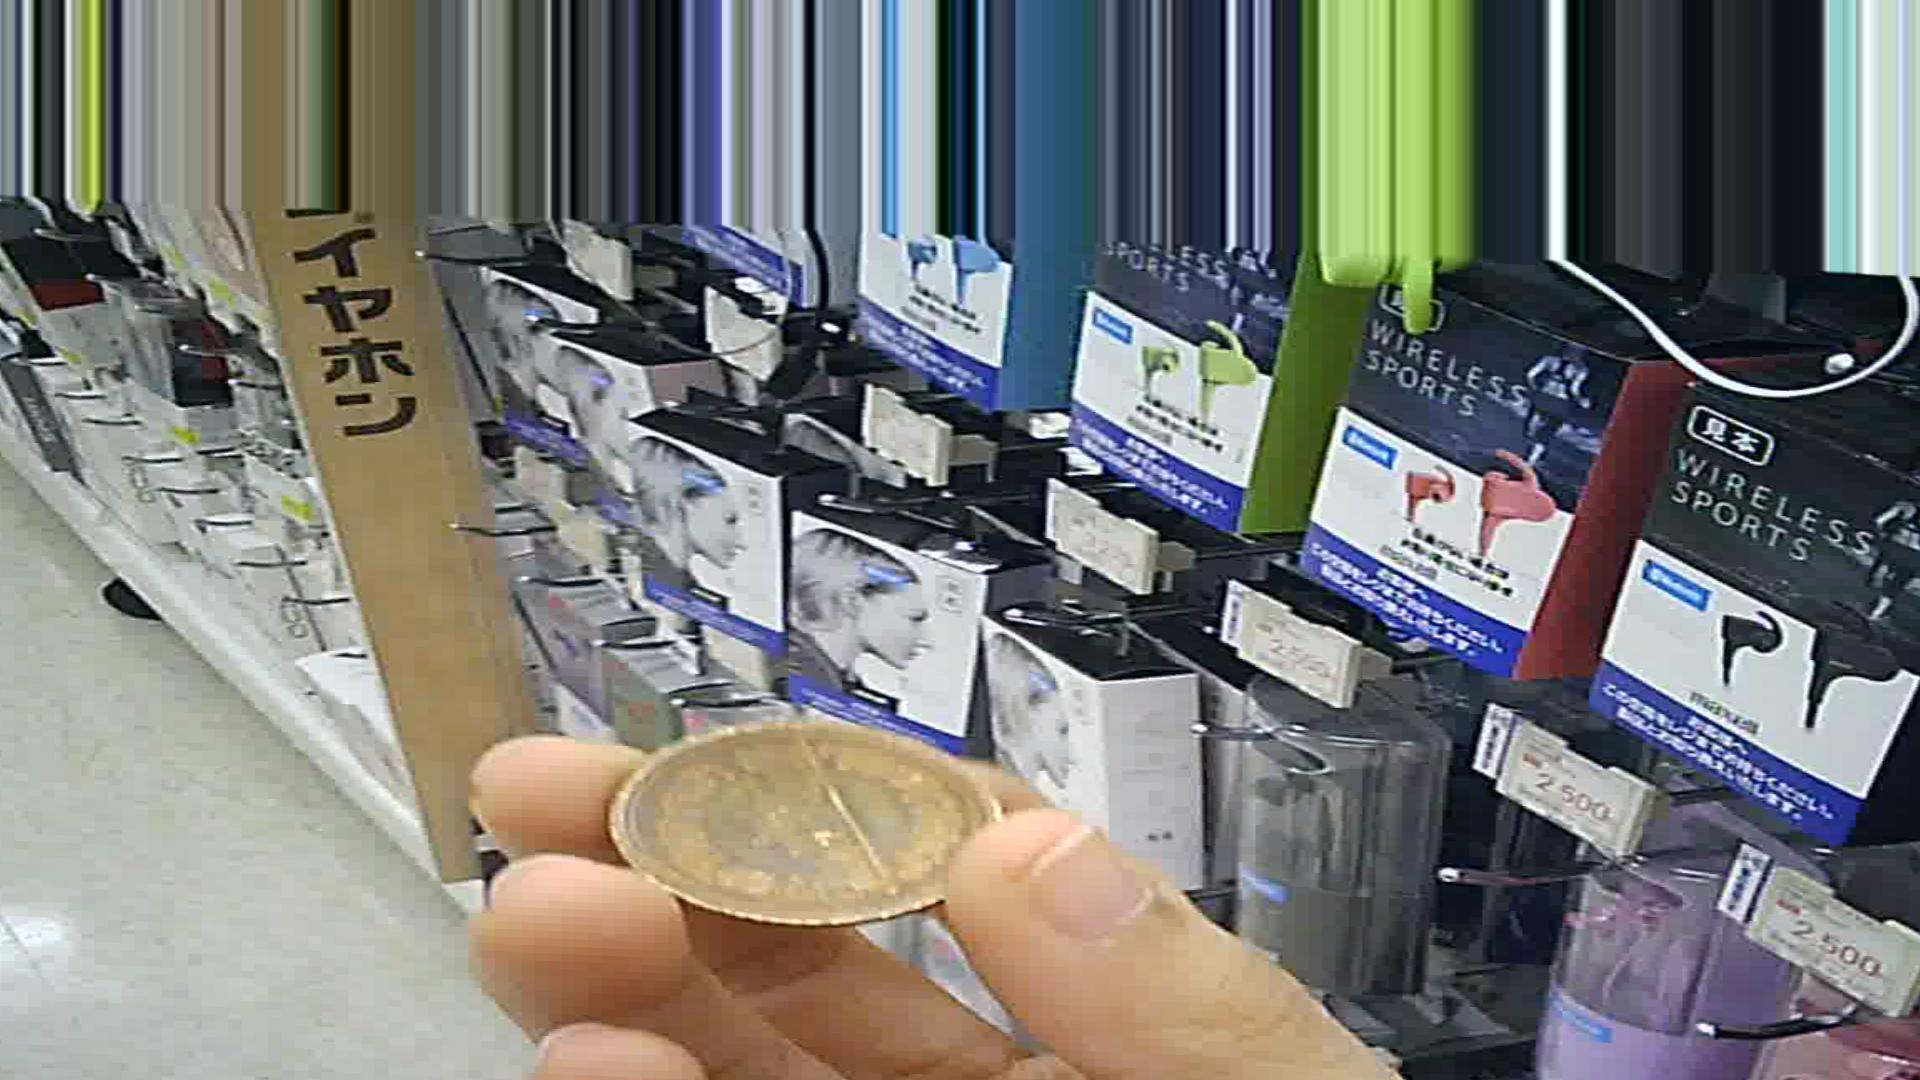10 Yen: (591, 705, 990, 927)
